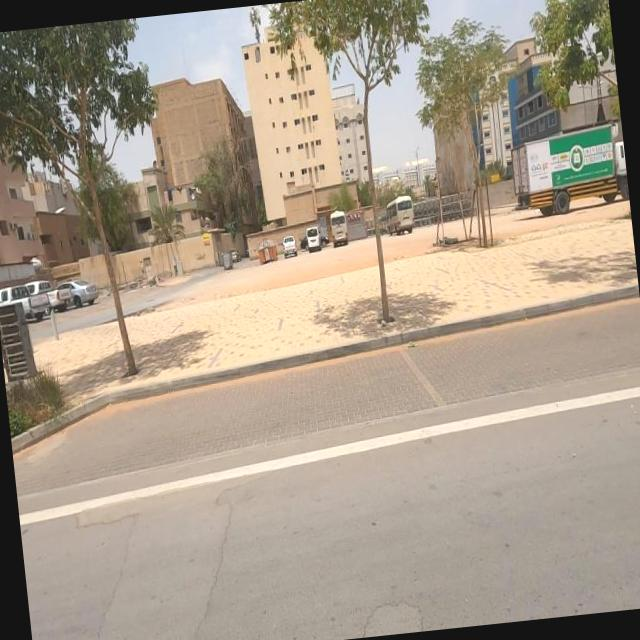debris: (184, 242, 217, 274)
